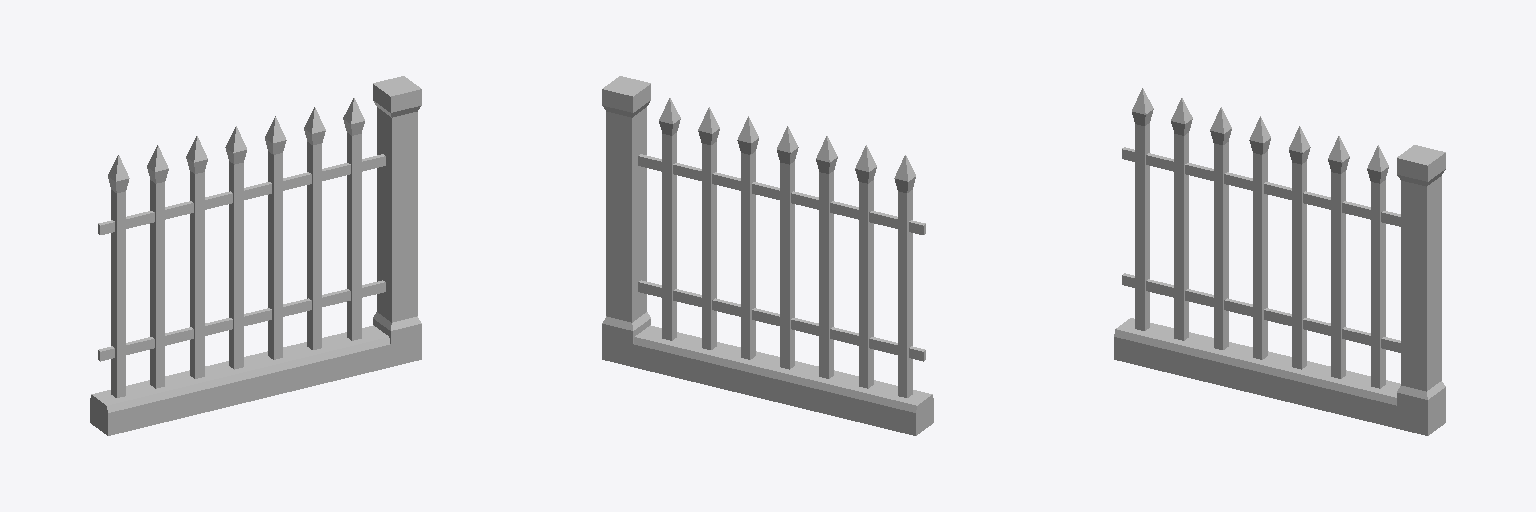
The model's file is ironFenceBorderColumn.obj.
The picture shows the model from 3 angles: view 1: azimuth 30°, elevation 25°; view 2: azimuth 150°, elevation 25°; view 3: azimuth 330°, elevation 25°; orthographic projection.
Parts seen in each view (by area): view 1: ironFenceBorderColumn; view 2: ironFenceBorderColumn; view 3: ironFenceBorderColumn.
Boxes of the visible parts, <box> form: ironFenceBorderColumn: <box>90,76,421,435</box>; ironFenceBorderColumn: <box>602,76,933,435</box>; ironFenceBorderColumn: <box>1114,88,1445,435</box>.
Size of the model in its own units: 1 by 0.8239 by 0.1.